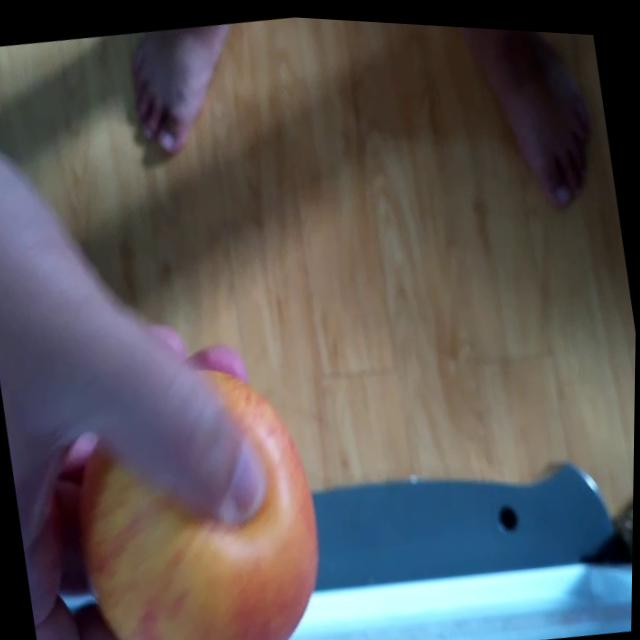apple: (50, 338, 344, 640)
